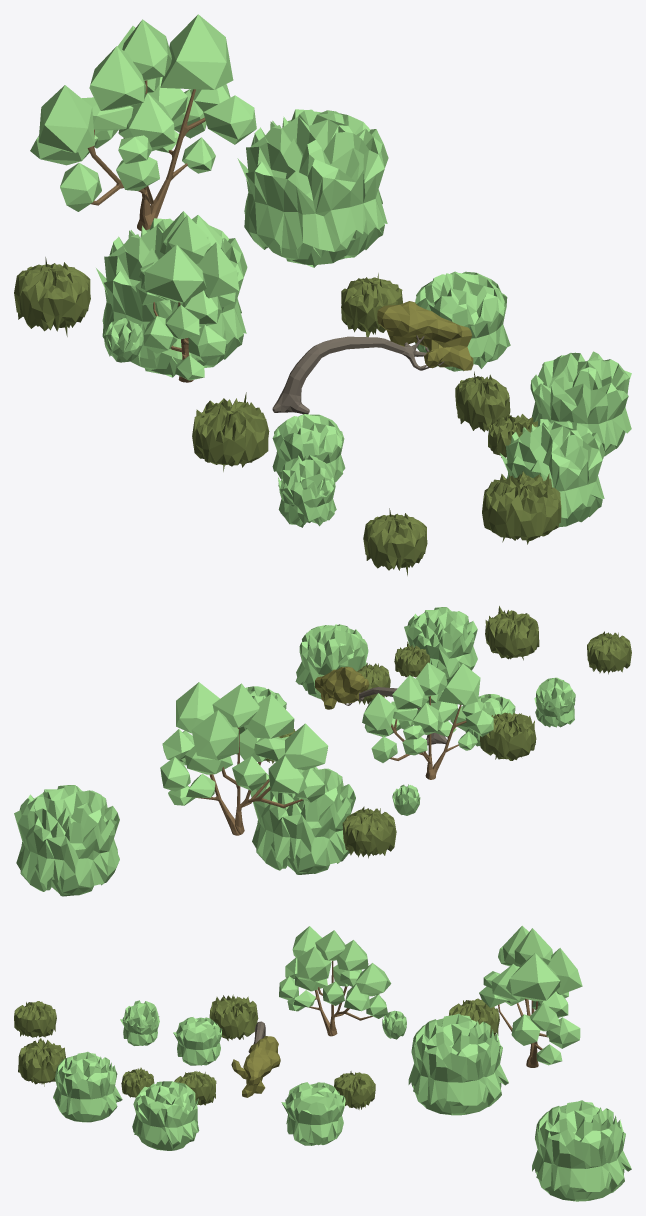
Rendered from plants.glb.
3 views of the same model, one above another, from view 1: azimuth 30°, elevation 25°; view 2: azimuth 150°, elevation 25°; view 3: azimuth 270°, elevation 25° (orthographic). The views are drawn at different scales.
Visible parts, largest first — view 1: Sagebrush.2, Alligator Juniper, California Juniper.young, Juniper.fallen.leaves, Juniper.fallen.trunk, Sagebrush, Sagebrush.002; view 2: Sagebrush.2, Alligator Juniper, California Juniper.young, Juniper.fallen.leaves, Sagebrush, Sagebrush.002, Juniper.fallen.trunk; view 3: Sagebrush.2, Alligator Juniper, California Juniper.young, Juniper.fallen.leaves, Sagebrush, Sagebrush.002.
Boxes of the visible parts, <box> form: Sagebrush.2: <box>96,109,631,527</box>; Alligator Juniper: <box>30,14,256,382</box>; California Juniper.young: <box>14,257,561,575</box>; Juniper.fallen.leaves: <box>377,301,473,370</box>; Juniper.fallen.trunk: <box>272,335,444,414</box>; Sagebrush: <box>278,455,335,506</box>; Sagebrush.002: <box>103,318,143,362</box>; Sagebrush.2: <box>14,607,575,896</box>; Alligator Juniper: <box>160,662,493,835</box>; California Juniper.young: <box>264,606,631,858</box>; Juniper.fallen.leaves: <box>315,666,369,709</box>; Sagebrush: <box>534,677,575,719</box>; Sagebrush.002: <box>392,784,420,815</box>; Juniper.fallen.trunk: <box>344,687,447,745</box>; Sagebrush.2: <box>53,1013,631,1201</box>; Alligator Juniper: <box>279,925,582,1067</box>; California Juniper.young: <box>14,994,499,1109</box>; Juniper.fallen.leaves: <box>231,1036,280,1097</box>; Sagebrush: <box>123,1000,159,1035</box>; Sagebrush.002: <box>382,1010,406,1039</box>.
Bounding box in the file's own units: 19.63 × 13.12 × 36.26.
